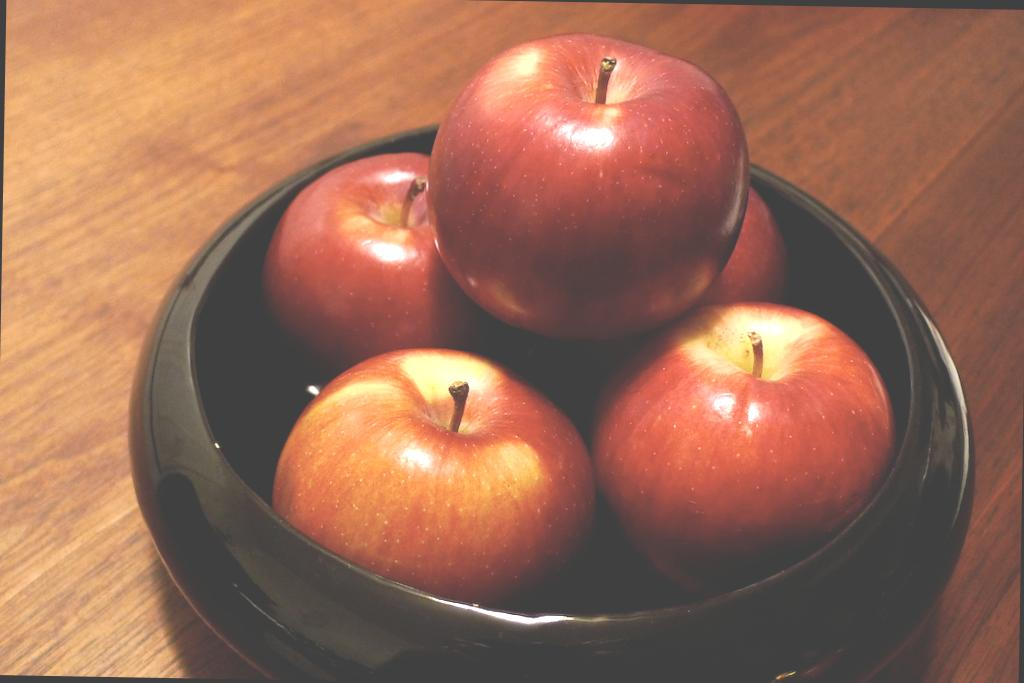Apple Ripe: (419, 18, 742, 310), (280, 321, 590, 613), (240, 114, 544, 378), (605, 280, 896, 543)
